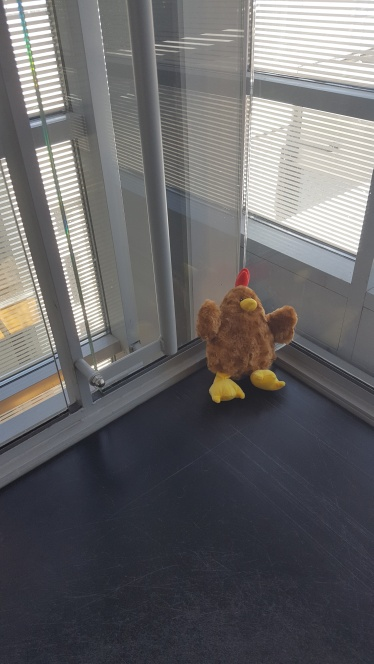chicken_front: (196, 269, 299, 404)
